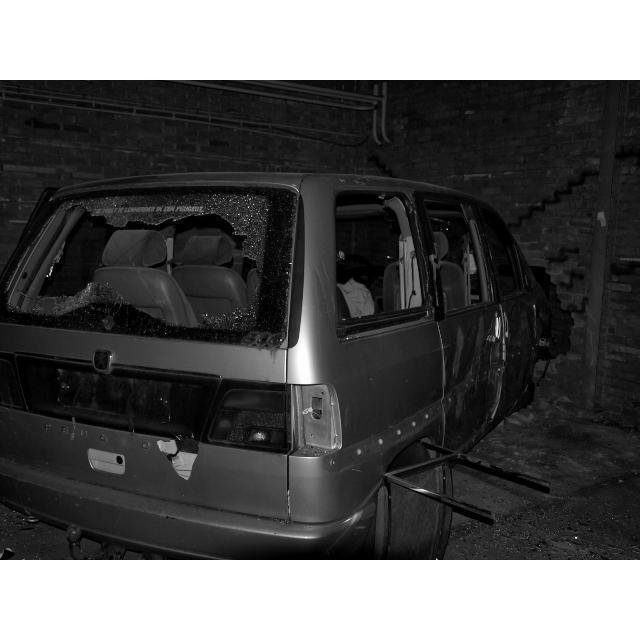Headlight-damage: (261, 382, 353, 466)
Rear-windscreen-Damage: (21, 184, 273, 328)
doorouter-dent: (451, 307, 529, 424)
rear-bumper-dent: (0, 344, 292, 530)
